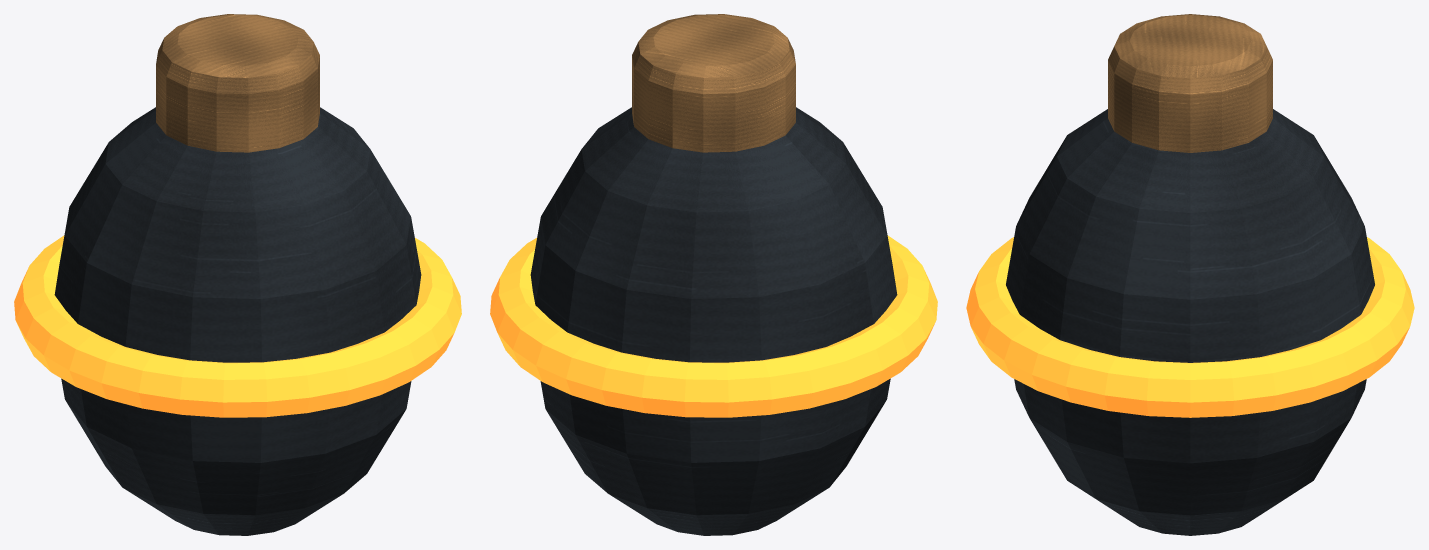
Rendered from pulse_bomb.glb.
The picture shows the model from 3 angles, left to right: view 1: azimuth 30°, elevation 25°; view 2: azimuth 150°, elevation 25°; view 3: azimuth 270°, elevation 25°; orthographic projection.
Visible parts, largest first — view 1: pulse_bomb; view 2: pulse_bomb; view 3: pulse_bomb.
Part boxes in pixels (x1,y1,x2,y2): pulse_bomb: (14,14,461,535); pulse_bomb: (490,14,937,535); pulse_bomb: (966,14,1414,535).
Bounding box in the file's own units: 0.38 × 0.45 × 0.38.
3 materials, 2 textured.
